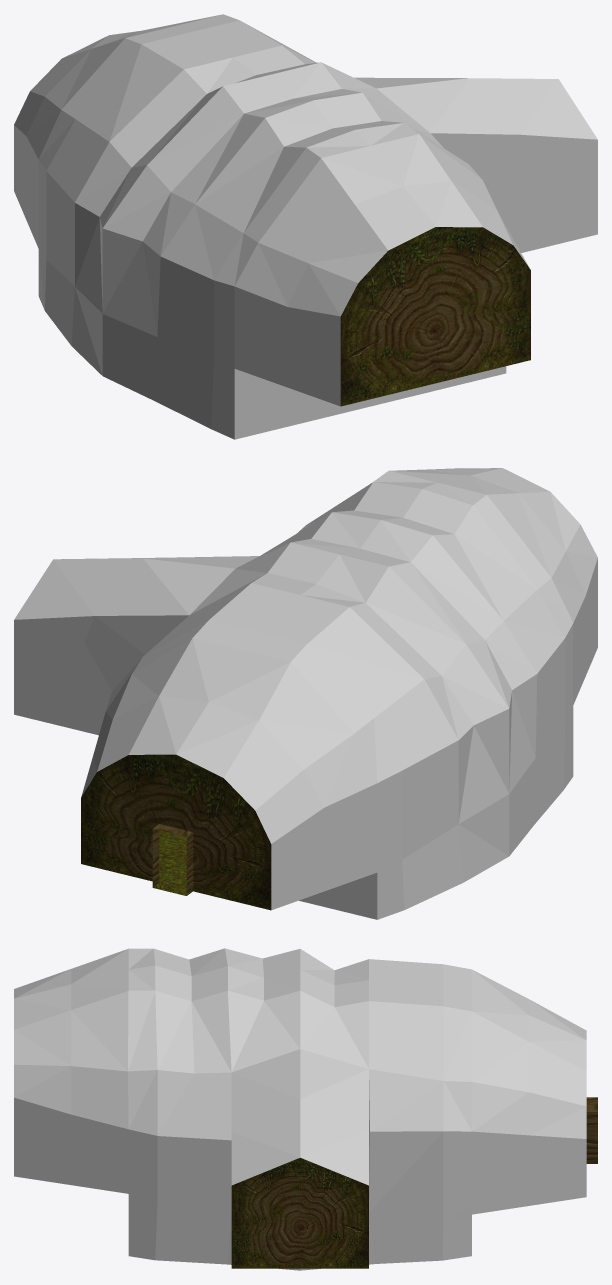
The picture shows the model from 3 angles, top to bottom: view 1: azimuth 30°, elevation 25°; view 2: azimuth 150°, elevation 25°; view 3: azimuth 270°, elevation 25°; orthographic projection. The views are drawn at different scales.
Parts seen in each view (by area): view 1: inside_the_deku_tree_10.dmx; view 2: inside_the_deku_tree_10.dmx; view 3: inside_the_deku_tree_10.dmx.
Part boxes in pixels (x1,y1,x2,y2): inside_the_deku_tree_10.dmx: [14, 14, 597, 439]; inside_the_deku_tree_10.dmx: [14, 468, 597, 919]; inside_the_deku_tree_10.dmx: [14, 948, 597, 1270].
Bounding box in the file's own units: 17.89 × 9.95 × 22.64.
